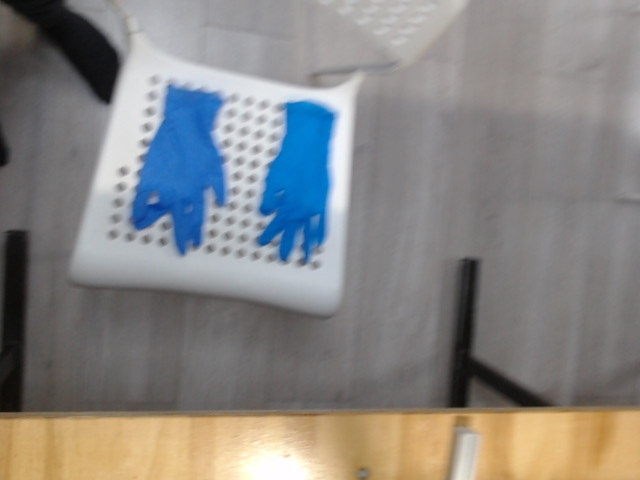medical_glove: (132, 84, 225, 251), (260, 102, 337, 259)
